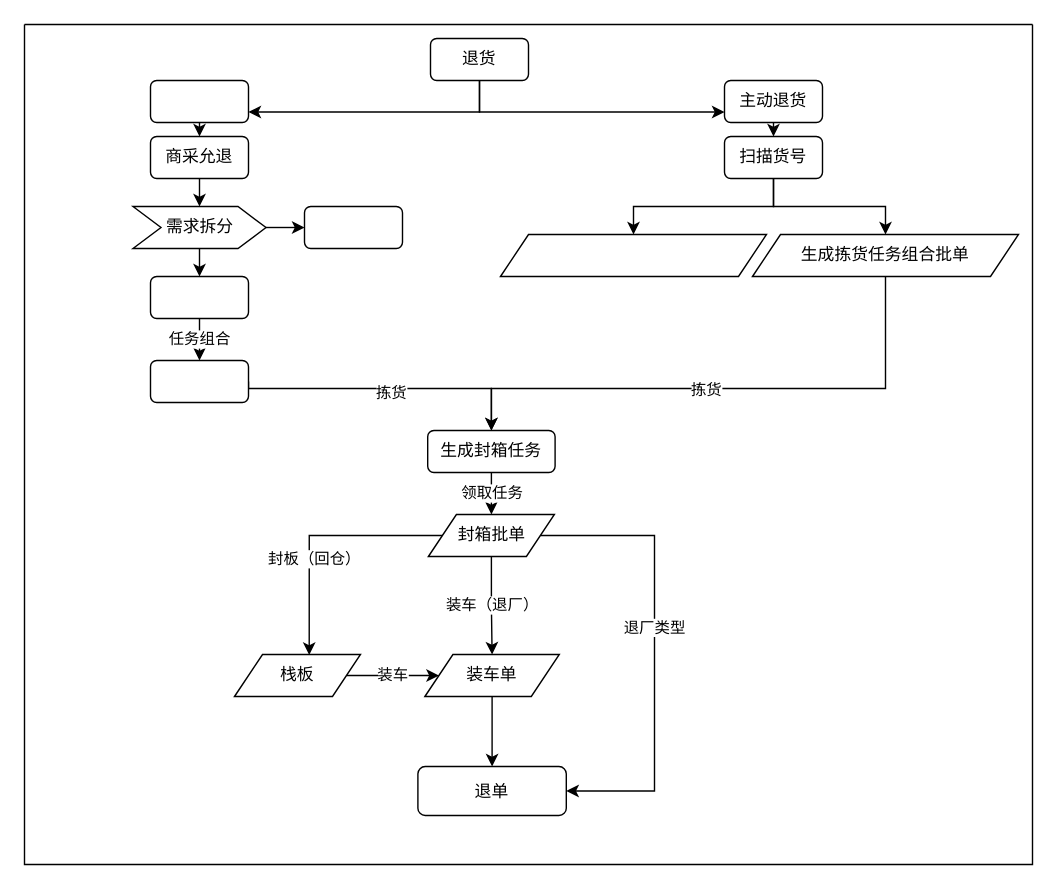
The diagram is 1057 pixels wide and 889 high, and some of its shapes have lost their labels. The shapes that lost their labels are listed below. From the top down, each one's centre as x and y in pixels, then its label:
At pixel 198 100: "被动退货".
At pixel 352 226: "需求取消".
At pixel 632 254: "初始化拣货批单，任务，需求".
At pixel 198 296: "拣货任务".
At pixel 198 380: "拣货批单".
